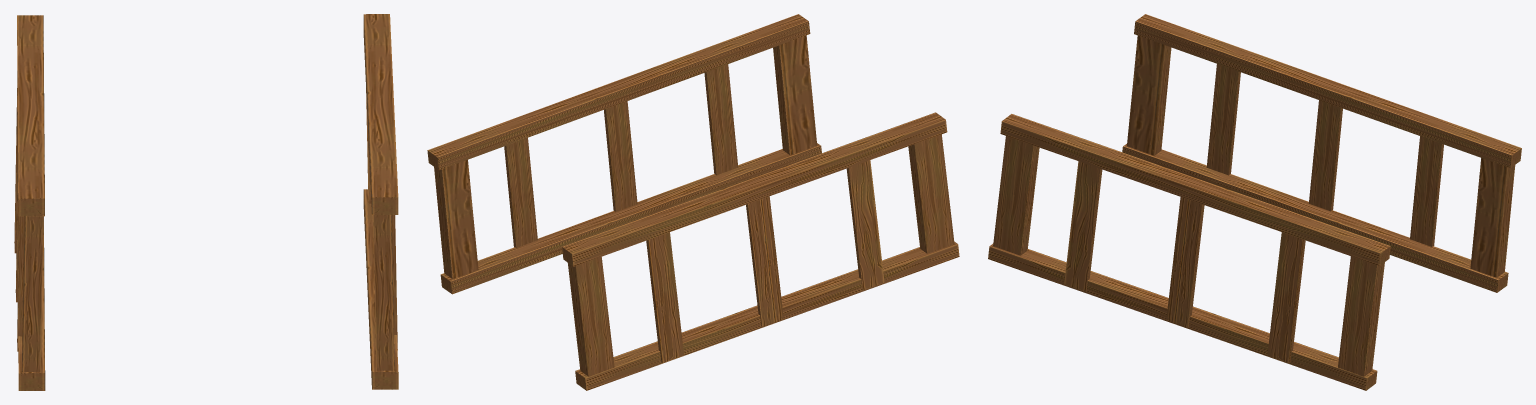
The picture shows the model from 3 angles, left to right: view 1: azimuth 30°, elevation 25°; view 2: azimuth 150°, elevation 25°; view 3: azimuth 270°, elevation 25°; orthographic projection. The views are drawn at different scales.
Parts seen in each view (by area): view 1: Cube.1951; view 2: Cube.1951; view 3: Cube.1951.
Part boxes in pixels (box(x1,y1,x2,y2)): Cube.1951: box(14, 14, 398, 390); Cube.1951: box(427, 14, 959, 390); Cube.1951: box(988, 14, 1521, 390).
Size of the model in its own units: 570 by 244 by 643.
1 material, 1 textured.
